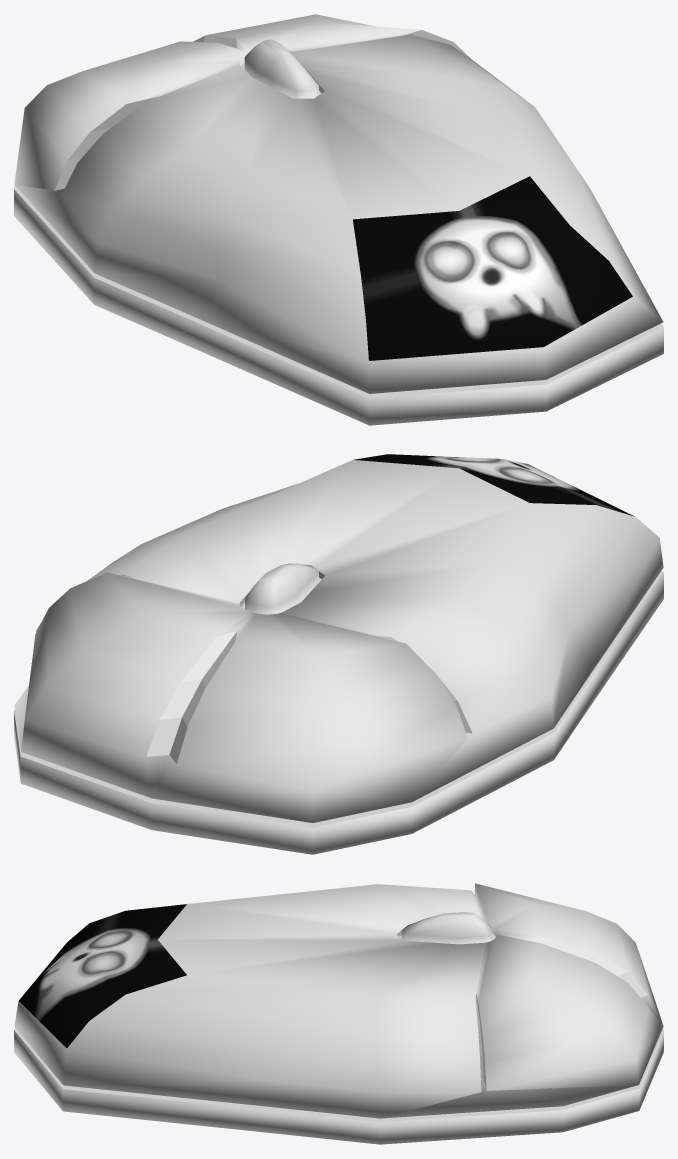
The model's file is Mouse2.fbx.
3 renders of one model, top to bottom at view 1: azimuth 30°, elevation 25°; view 2: azimuth 150°, elevation 25°; view 3: azimuth 270°, elevation 25°, orthographic. The views are drawn at different scales.
Parts seen in each view (by area): view 1: Circle; view 2: Circle; view 3: Circle.
Part boxes in pixels (x1,y1,x2,y2): Circle: (14,14,663,425); Circle: (14,454,663,854); Circle: (14,883,663,1144).
Size of the model in its own units: 119 by 41.3 by 178.
